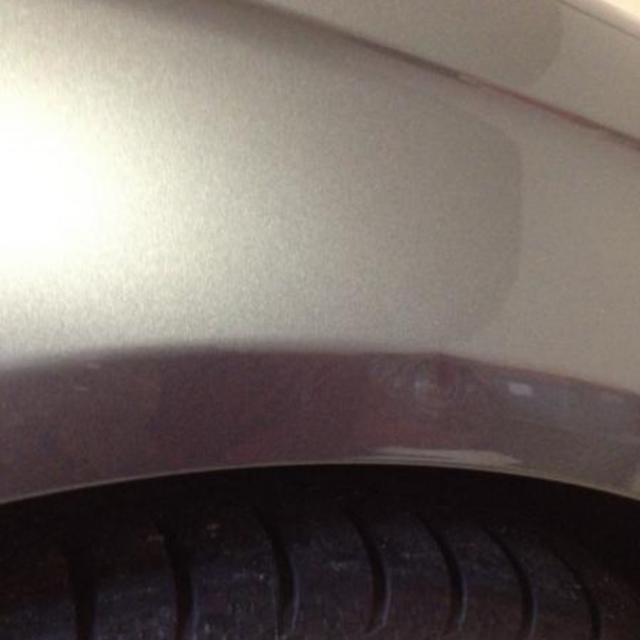dents: (399, 335, 503, 440)
